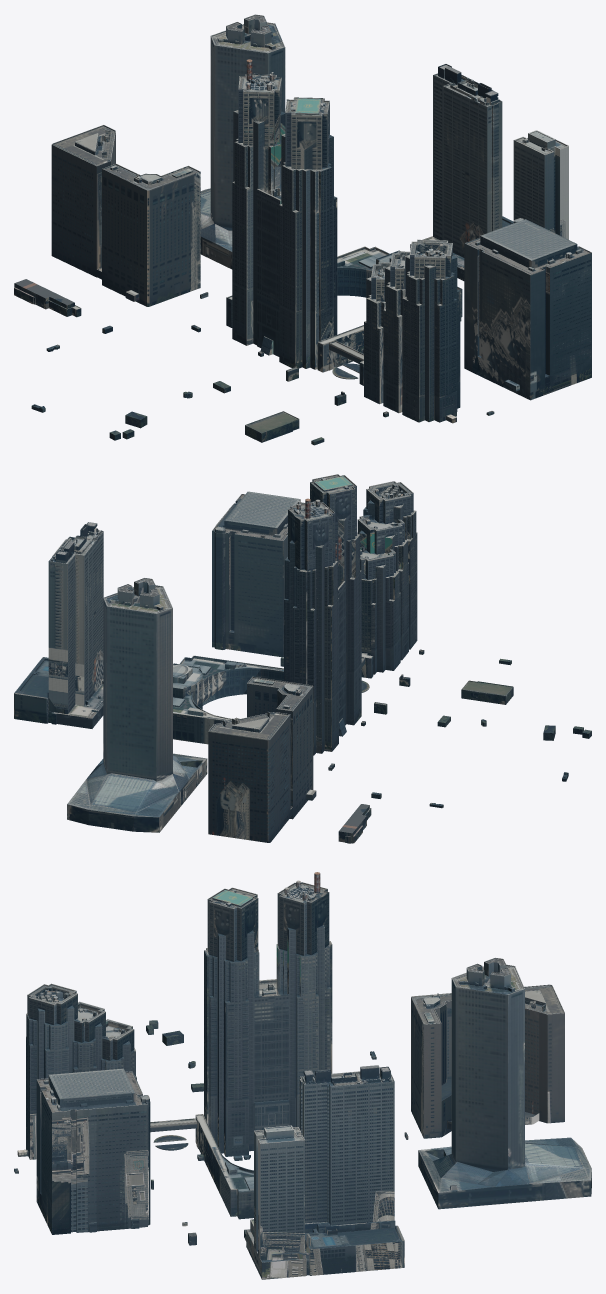
File: tocho.glb
3 renders of one model, top to bottom at view 1: azimuth 30°, elevation 25°; view 2: azimuth 150°, elevation 25°; view 3: azimuth 270°, elevation 25°, orthographic. The views are drawn at different scales.
Parts seen in each view (by area): view 1: 53394525_bldg_6697_appearance/WallSurfaceTexture_00008334_00, 53394525_bldg_6697_appearance/WallSurfaceTexture_00008454_00, 53394525_bldg_6697_appearance/WallSurfaceTexture_00008331_00, 53394525_bldg_6697_appearance/WallSurfaceTexture_00008458_00, 53394525_bldg_6697_appearance/WallSurfaceTexture_00008333_00, 53394525_bldg_6697_appearance/WallSurfaceTexture_00008904_00, 53394525_bldg_6697_appearance/WallSurfaceTexture_00008365_00, 53394525_bldg_6697_appearance/BuildingInstallation_1070Textu (×2), 53394525_bldg_6697_appearance/RoofSurfaceTexture_00008904_00, 53394525_bldg_6697_appearance/RoofSurfaceTexture_00008334_00, 53394525_bldg_6697_appearance/RoofSurfaceTexture_00008365_00, 53394525_bldg_6697_appearance/RoofSurfaceTexture_00008458_00 (+7 smaller); view 2: 53394525_bldg_6697_appearance/WallSurfaceTexture_00008334_00, 53394525_bldg_6697_appearance/WallSurfaceTexture_00008904_00, 53394525_bldg_6697_appearance/WallSurfaceTexture_00008331_00, 53394525_bldg_6697_appearance/WallSurfaceTexture_00008458_00, 53394525_bldg_6697_appearance/WallSurfaceTexture_00008365_00, 53394525_bldg_6697_appearance/WallSurfaceTexture_00008454_00, 53394525_bldg_6697_appearance/RoofSurfaceTexture_00008904_00, 53394525_bldg_6697_appearance/WallSurfaceTexture_00008333_00, 53394525_bldg_6697_appearance/BuildingInstallation_1070Textu (×2), 53394525_bldg_6697_appearance/RoofSurfaceTexture_00008458_00, 53394525_bldg_6697_appearance/RoofSurfaceTexture_00008331_00, 53394525_bldg_6697_appearance/WallSurfaceTexture_00008311_00 (+11 smaller); view 3: 53394525_bldg_6697_appearance/WallSurfaceTexture_00008334_00, 53394525_bldg_6697_appearance/WallSurfaceTexture_00008331_00, 53394525_bldg_6697_appearance/WallSurfaceTexture_00008904_00, 53394525_bldg_6697_appearance/WallSurfaceTexture_00008454_00, 53394525_bldg_6697_appearance/WallSurfaceTexture_00008458_00, 53394525_bldg_6697_appearance/RoofSurfaceTexture_00008904_00, 53394525_bldg_6697_appearance/WallSurfaceTexture_00008333_00, 53394525_bldg_6697_appearance/WallSurfaceTexture_00008365_00, 53394525_bldg_6697_appearance/BuildingInstallation_1070Textu (×2), 53394525_bldg_6697_appearance/RoofSurfaceTexture_00008331_00, 53394525_bldg_6697_appearance/RoofSurfaceTexture_00008334_00, 53394525_bldg_6697_appearance/RoofSurfaceTexture_00008458_00 (+6 smaller).
Boxes of the visible parts, box(x1,y1,x2,y2) form: 53394525_bldg_6697_appearance/WallSurfaceTexture_00008334_00: box(232, 74, 337, 369); 53394525_bldg_6697_appearance/WallSurfaceTexture_00008454_00: box(464, 238, 591, 400); 53394525_bldg_6697_appearance/WallSurfaceTexture_00008331_00: box(433, 64, 568, 257); 53394525_bldg_6697_appearance/WallSurfaceTexture_00008458_00: box(359, 240, 460, 422); 53394525_bldg_6697_appearance/WallSurfaceTexture_00008333_00: box(102, 164, 200, 306); 53394525_bldg_6697_appearance/WallSurfaceTexture_00008904_00: box(200, 15, 285, 269); 53394525_bldg_6697_appearance/WallSurfaceTexture_00008365_00: box(51, 125, 115, 277); 53394525_bldg_6697_appearance/BuildingInstallation_1070Textu (×2): box(440, 65, 577, 268); 53394525_bldg_6697_appearance/RoofSurfaceTexture_00008904_00: box(200, 14, 284, 251); 53394525_bldg_6697_appearance/RoofSurfaceTexture_00008334_00: box(232, 73, 336, 212); 53394525_bldg_6697_appearance/RoofSurfaceTexture_00008365_00: box(51, 125, 115, 166); 53394525_bldg_6697_appearance/RoofSurfaceTexture_00008458_00: box(360, 239, 459, 364); 53394525_bldg_6697_appearance/WallSurfaceTexture_00008334_00: box(284, 474, 361, 755); 53394525_bldg_6697_appearance/WallSurfaceTexture_00008904_00: box(67, 578, 207, 832); 53394525_bldg_6697_appearance/WallSurfaceTexture_00008331_00: box(14, 530, 103, 723); 53394525_bldg_6697_appearance/WallSurfaceTexture_00008458_00: box(357, 481, 417, 678); 53394525_bldg_6697_appearance/WallSurfaceTexture_00008365_00: box(208, 712, 290, 842); 53394525_bldg_6697_appearance/WallSurfaceTexture_00008454_00: box(212, 494, 304, 657); 53394525_bldg_6697_appearance/RoofSurfaceTexture_00008904_00: box(67, 578, 206, 817); 53394525_bldg_6697_appearance/WallSurfaceTexture_00008333_00: box(247, 677, 313, 819); 53394525_bldg_6697_appearance/BuildingInstallation_1070Textu (×2): box(51, 491, 300, 561); 53394525_bldg_6697_appearance/RoofSurfaceTexture_00008458_00: box(358, 481, 416, 658); 53394525_bldg_6697_appearance/RoofSurfaceTexture_00008331_00: box(14, 529, 103, 698); 53394525_bldg_6697_appearance/WallSurfaceTexture_00008311_00: box(180, 656, 238, 705); 53394525_bldg_6697_appearance/WallSurfaceTexture_00008334_00: box(204, 882, 332, 1156); 53394525_bldg_6697_appearance/WallSurfaceTexture_00008331_00: box(246, 1066, 404, 1279); 53394525_bldg_6697_appearance/WallSurfaceTexture_00008904_00: box(418, 958, 591, 1209); 53394525_bldg_6697_appearance/WallSurfaceTexture_00008454_00: box(36, 1071, 150, 1234); 53394525_bldg_6697_appearance/WallSurfaceTexture_00008458_00: box(26, 984, 136, 1159); 53394525_bldg_6697_appearance/RoofSurfaceTexture_00008904_00: box(418, 957, 591, 1192); 53394525_bldg_6697_appearance/WallSurfaceTexture_00008333_00: box(411, 993, 451, 1138); 53394525_bldg_6697_appearance/WallSurfaceTexture_00008365_00: box(524, 985, 564, 1123); 53394525_bldg_6697_appearance/BuildingInstallation_1070Textu (×2): box(48, 1065, 391, 1235); 53394525_bldg_6697_appearance/RoofSurfaceTexture_00008331_00: box(246, 1066, 404, 1262); 53394525_bldg_6697_appearance/RoofSurfaceTexture_00008334_00: box(204, 882, 331, 1102); 53394525_bldg_6697_appearance/RoofSurfaceTexture_00008458_00: box(26, 983, 136, 1077).
Size of what is drawn, in the model's own units: 552 by 262 by 517.
Materials: 148 (147 with a texture image).
